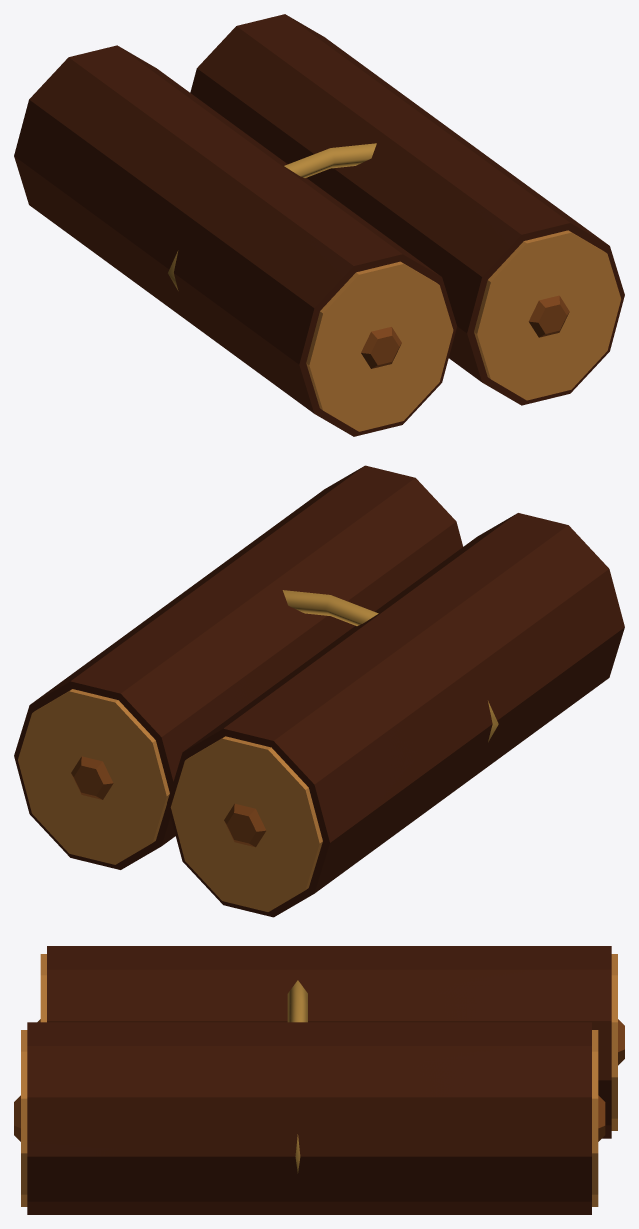
The model's file is pile-wood-2.obj.
3 renders of one model, top to bottom at view 1: azimuth 30°, elevation 25°; view 2: azimuth 150°, elevation 25°; view 3: azimuth 270°, elevation 25°, orthographic. The views are drawn at different scales.
Parts seen in each view (by area): view 1: pile-wood-2; view 2: pile-wood-2; view 3: pile-wood-2.
Boxes of the visible parts, x1,y1,x2,y2 form: pile-wood-2: [14, 14, 624, 436]; pile-wood-2: [14, 465, 624, 917]; pile-wood-2: [14, 946, 624, 1214].
Size of the model in its own units: 0.4738 by 0.2378 by 0.779.
Materials: 1 (1 with a texture image).
